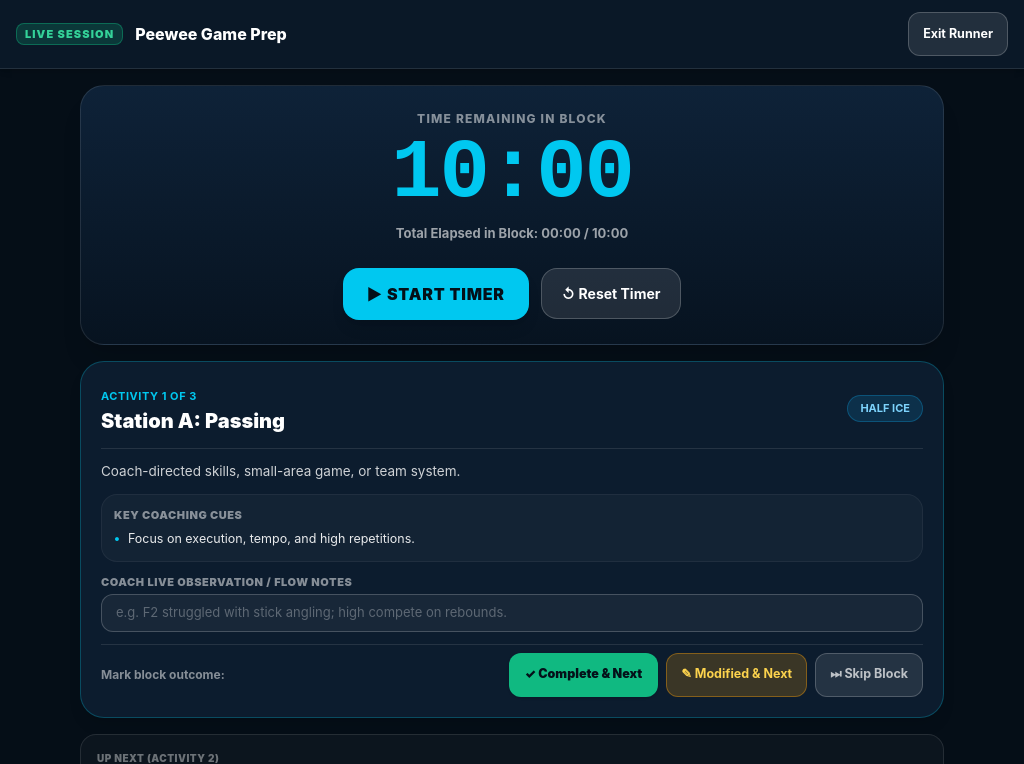
Test case: PracticeRunner › starts and pauses the timer on button click
The width and height of the screenshot is (1024, 764).
Click the button "▶ Start Timer".
click(436, 294)  # box [342,268,529,320]
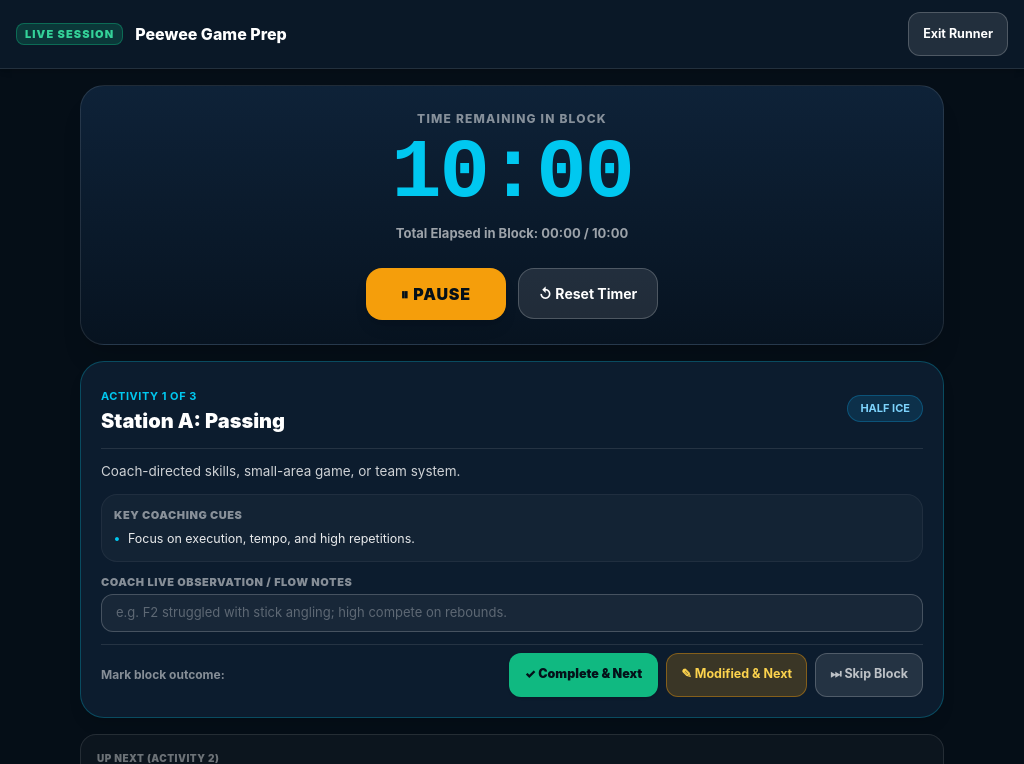
Now the button "⏸ Pause" is shown
Click the button "⏸ Pause".
click(436, 294)  # box [366,268,506,320]
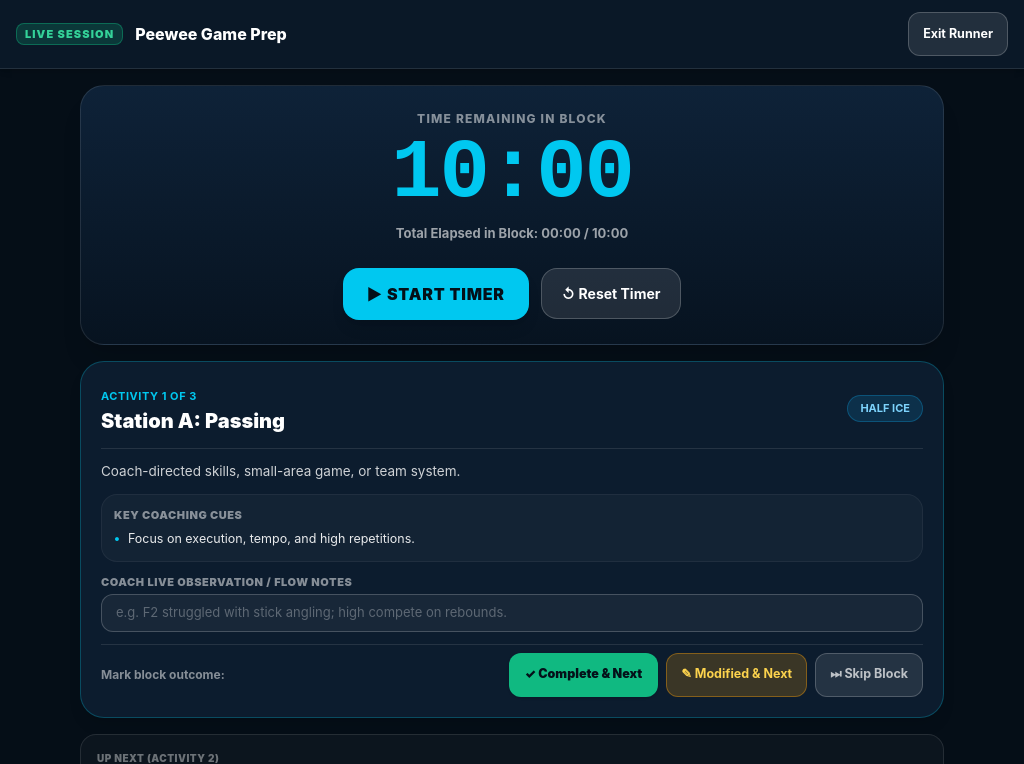
Now the button "▶ Start Timer" is shown, box [342,268,529,320]
